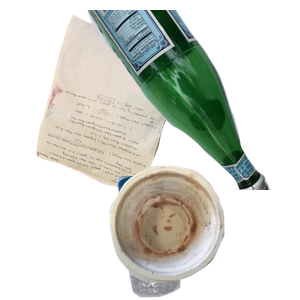glass: (75, 10, 300, 190)
paper: (33, 12, 214, 192)
plastic: (115, 176, 288, 300)
trash: (107, 163, 300, 300)
